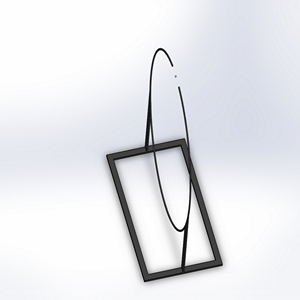circle: (105, 44, 225, 284)
